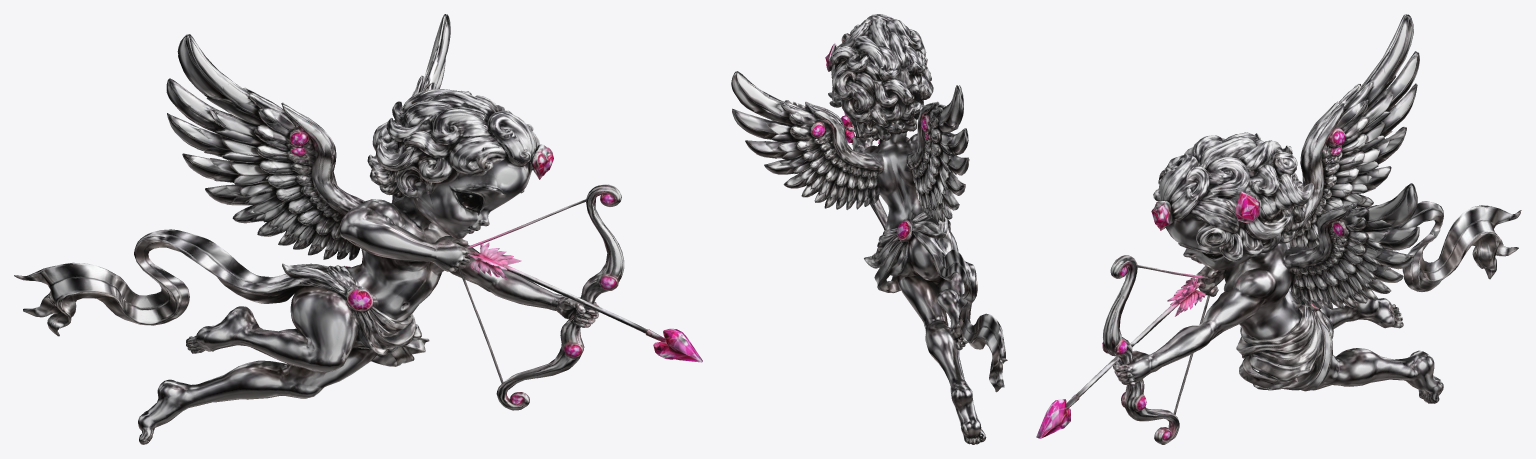
File: silver-cherub-v001.glb
3 views of the same model, side by side, from view 1: azimuth 30°, elevation 25°; view 2: azimuth 150°, elevation 25°; view 3: azimuth 270°, elevation 25° (orthographic). The views are drawn at different scales.
Visible parts, largest first — view 1: tripo_node_a9341611-698f-49e6-b24c-a574ef9681b2; view 2: tripo_node_a9341611-698f-49e6-b24c-a574ef9681b2; view 3: tripo_node_a9341611-698f-49e6-b24c-a574ef9681b2.
Boxes of the visible parts, bbox=[...] form: tripo_node_a9341611-698f-49e6-b24c-a574ef9681b2: bbox=[14, 14, 702, 444]; tripo_node_a9341611-698f-49e6-b24c-a574ef9681b2: bbox=[731, 14, 1007, 444]; tripo_node_a9341611-698f-49e6-b24c-a574ef9681b2: bbox=[1036, 14, 1521, 444].
Size of the model in its own units: 0.9812 by 0.863 by 0.9415.
1 material, 1 textured.
